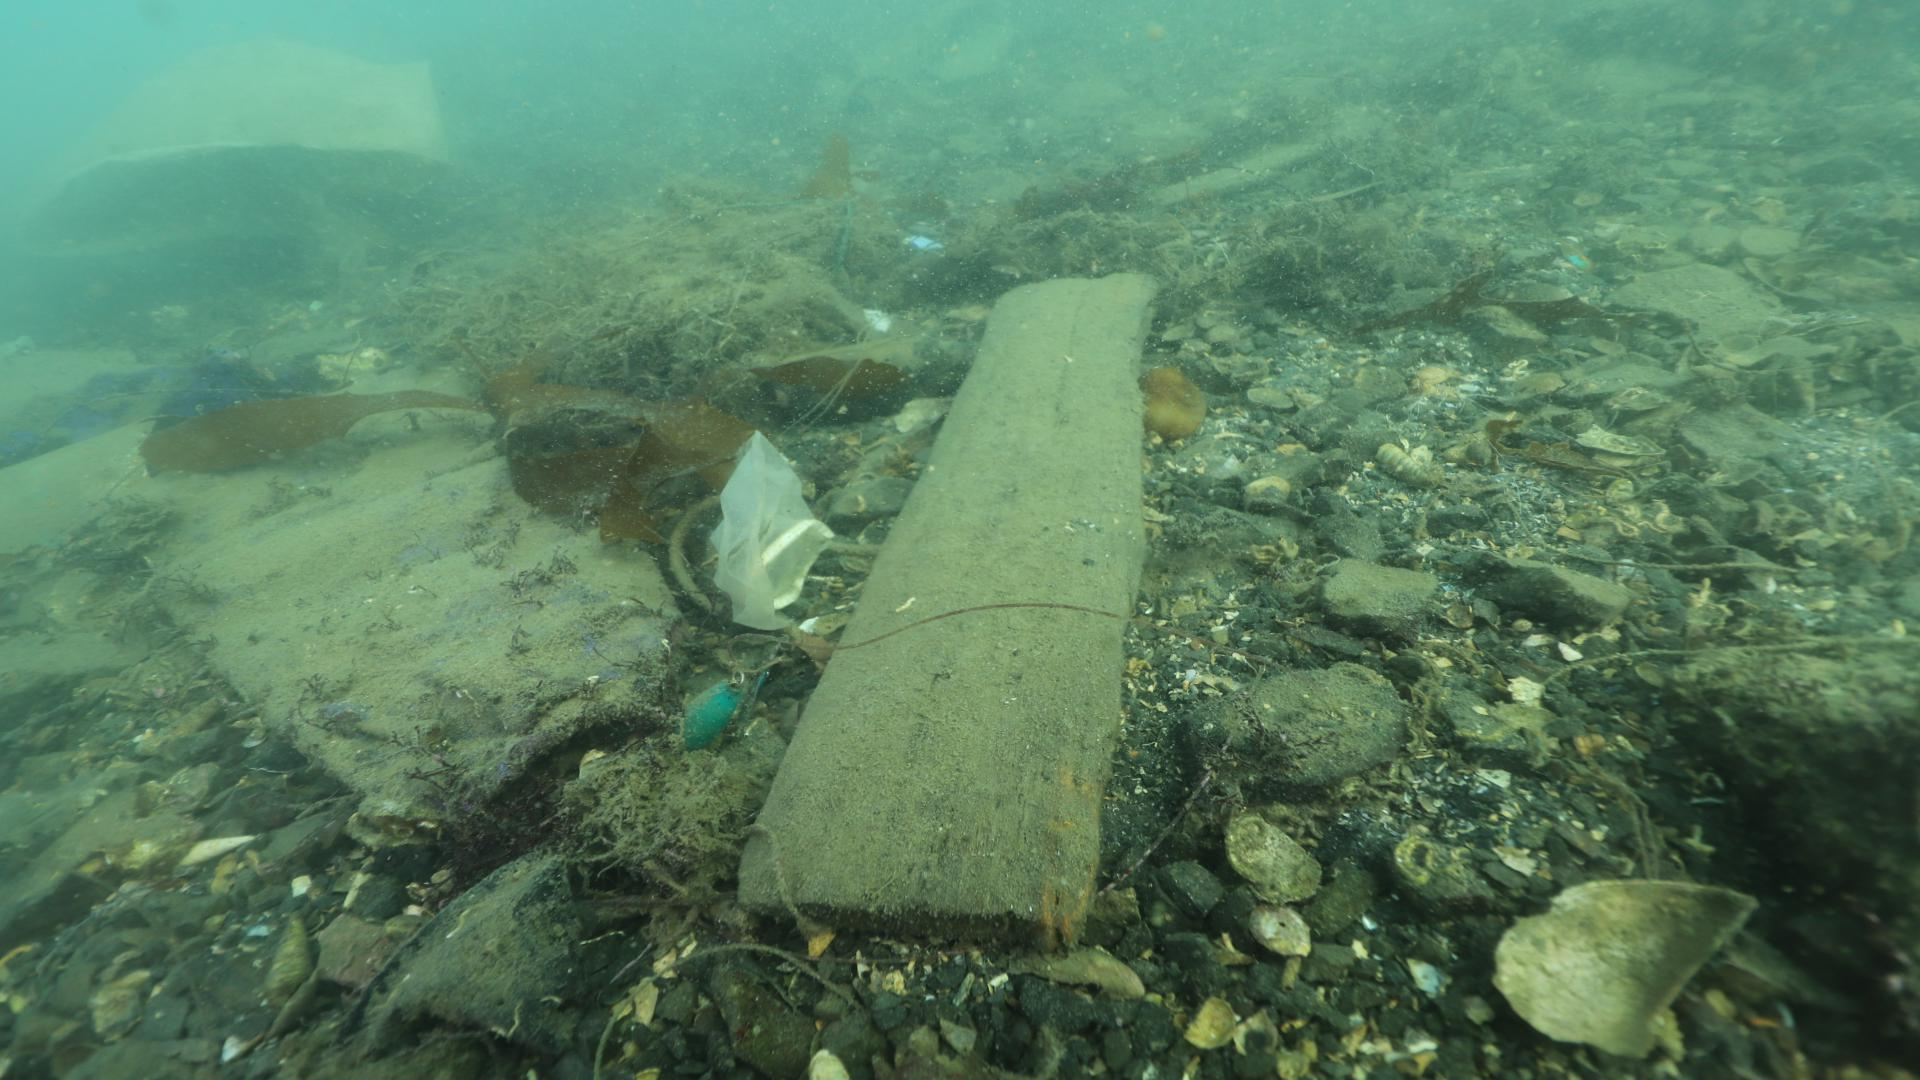wood: (736, 265, 1156, 957)
